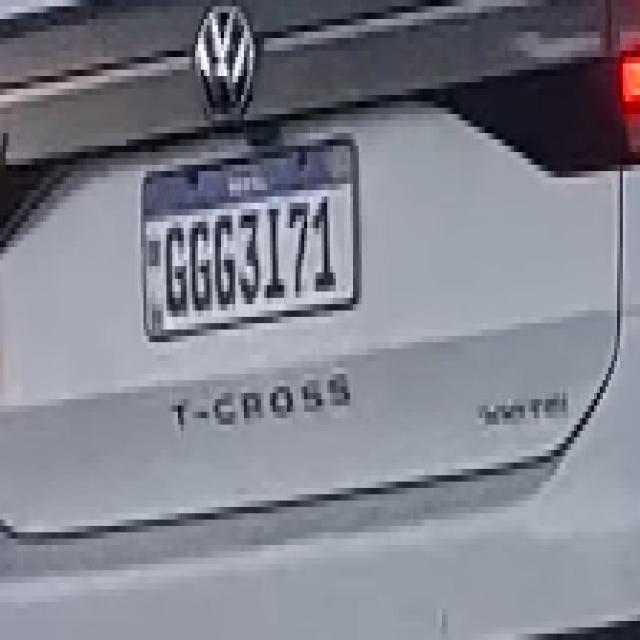Placa_mercosul_carro: (143, 134, 362, 344)
